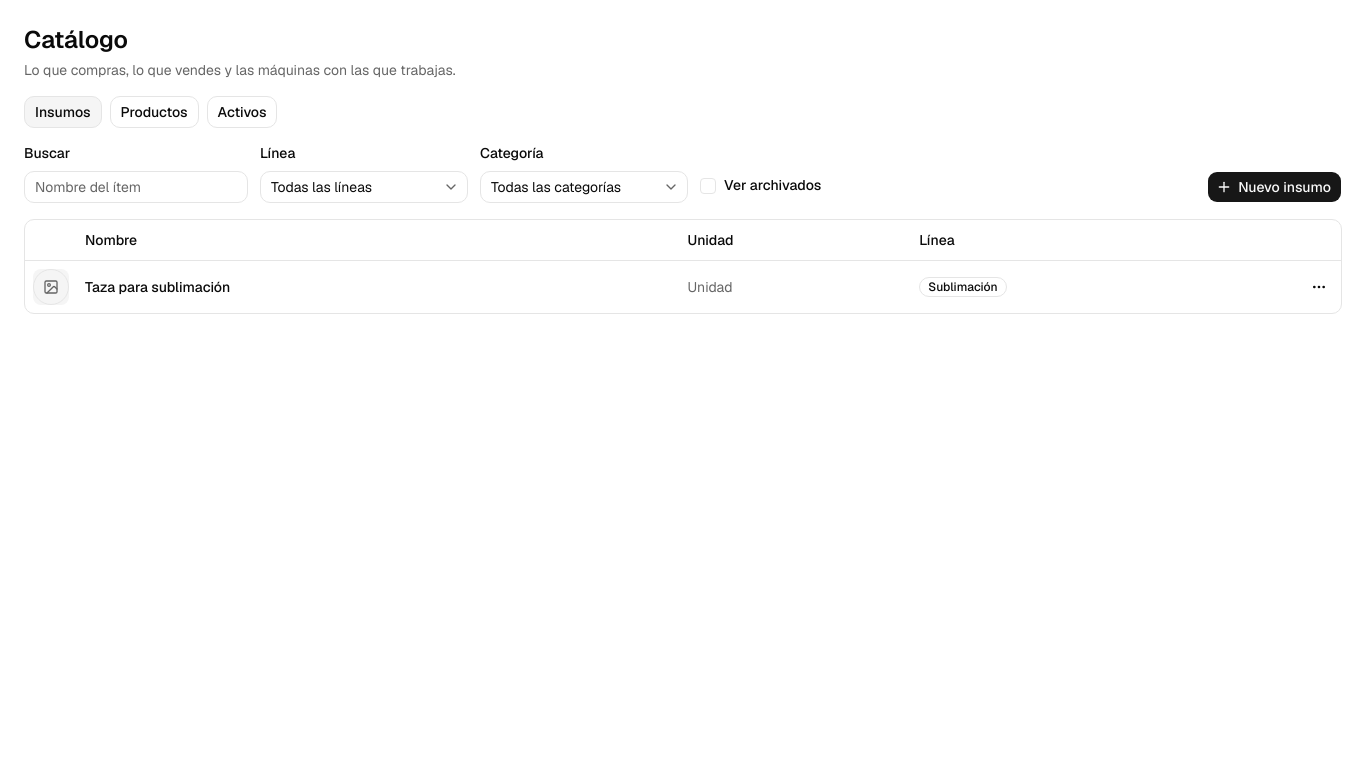
CatalogScreen › «Nuevo insumo» abre un diálogo, no un formulario incrustado
This screenshot has width=1366, height=768.
Click the button "Nuevo insumo".
click(1275, 187)  # box [1207,171,1342,203]
(page scrolled)
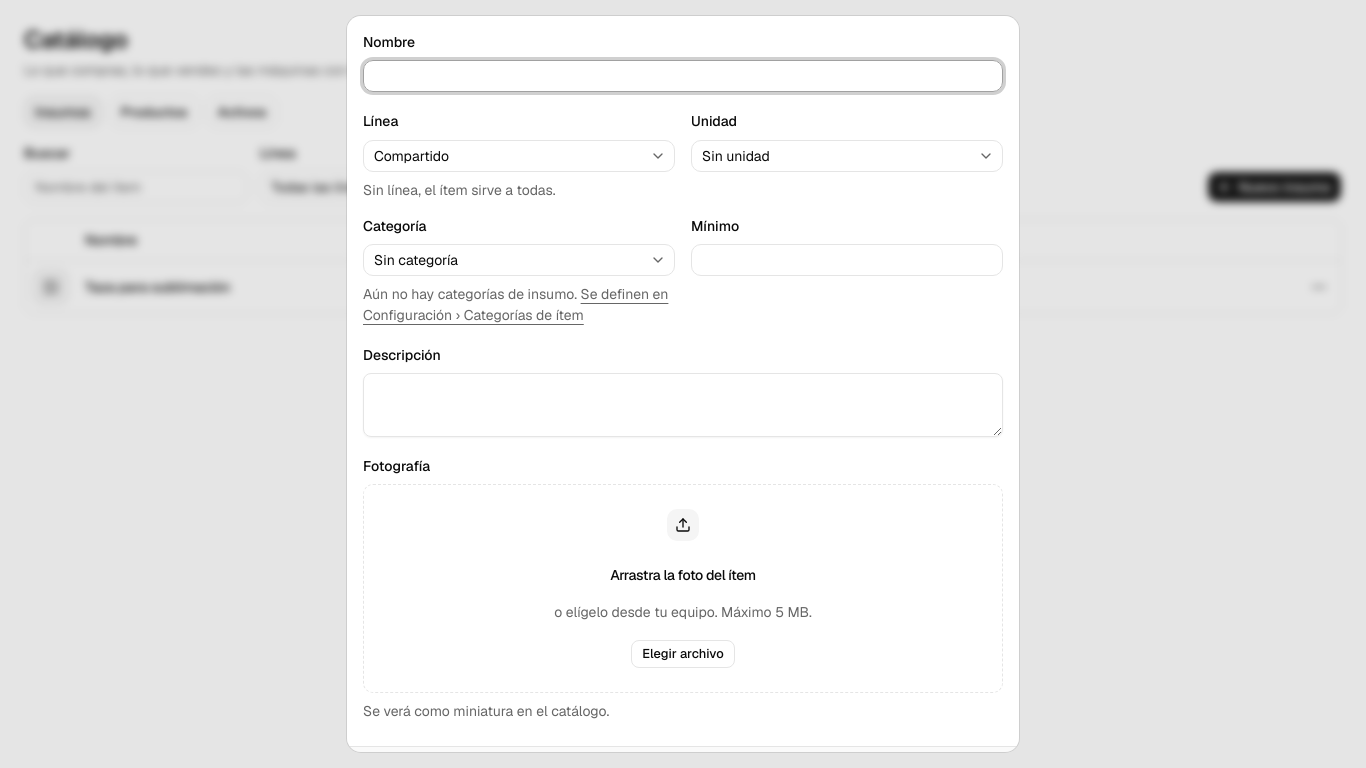
Expected: the dialog is shown, [347,16,1019,752]
Expected: the form with test id "item-form" is shown, [363,16,1003,752]
